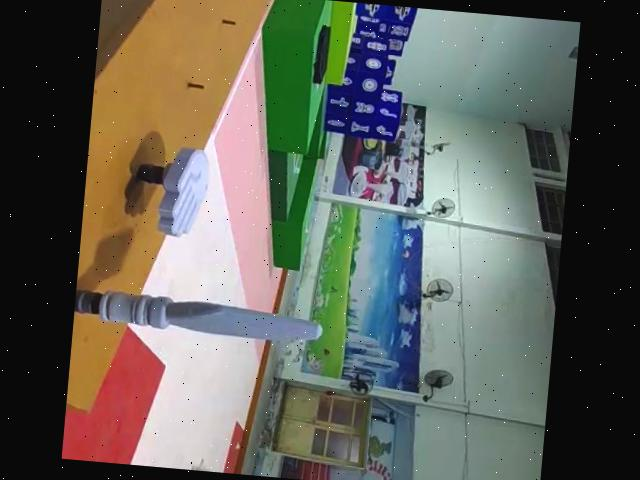Hand: (141, 145, 211, 238)
Sph: (72, 286, 325, 345)
